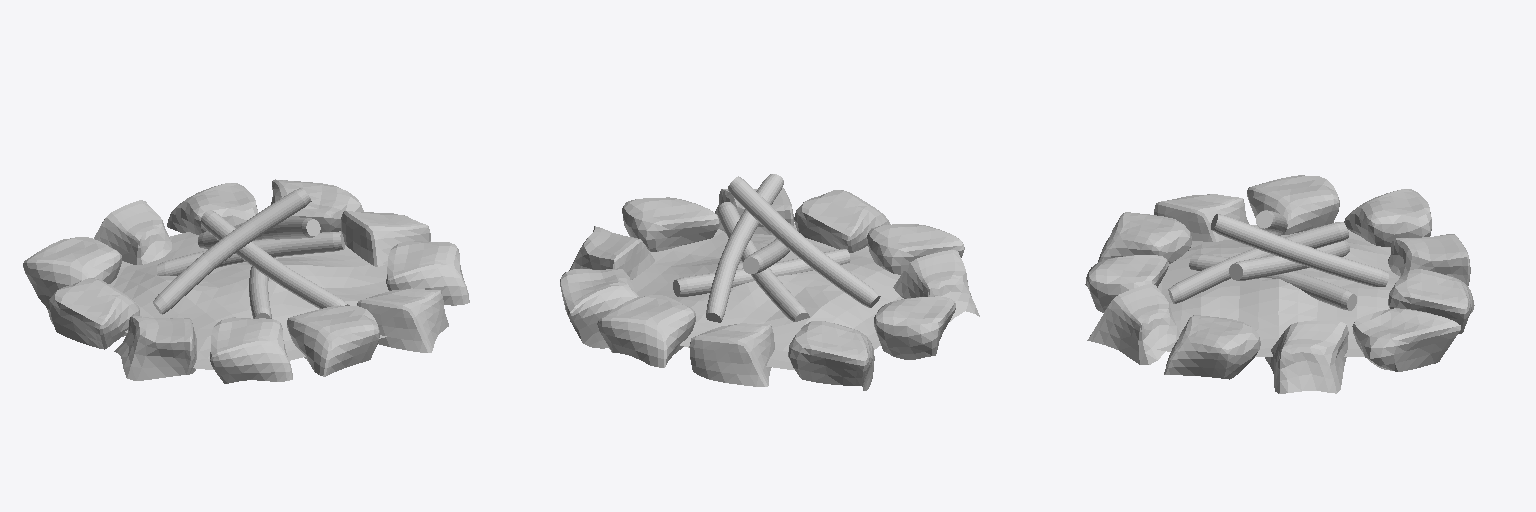
File: fire.obj
3 views of the same model, side by side, from view 1: azimuth 30°, elevation 25°; view 2: azimuth 150°, elevation 25°; view 3: azimuth 270°, elevation 25° (orthographic).
Parts seen in each view (by area): view 1: Ohniste_Circle.004; view 2: Ohniste_Circle.004; view 3: Ohniste_Circle.004.
Boxes of the visible parts, x1=… form: Ohniste_Circle.004: x1=23, y1=179, x2=469, y2=383; Ohniste_Circle.004: x1=560, y1=174, x2=979, y2=390; Ohniste_Circle.004: x1=1085, y1=175, x2=1474, y2=393.
Bounding box in the file's own units: 12.07 × 3.92 × 10.84.